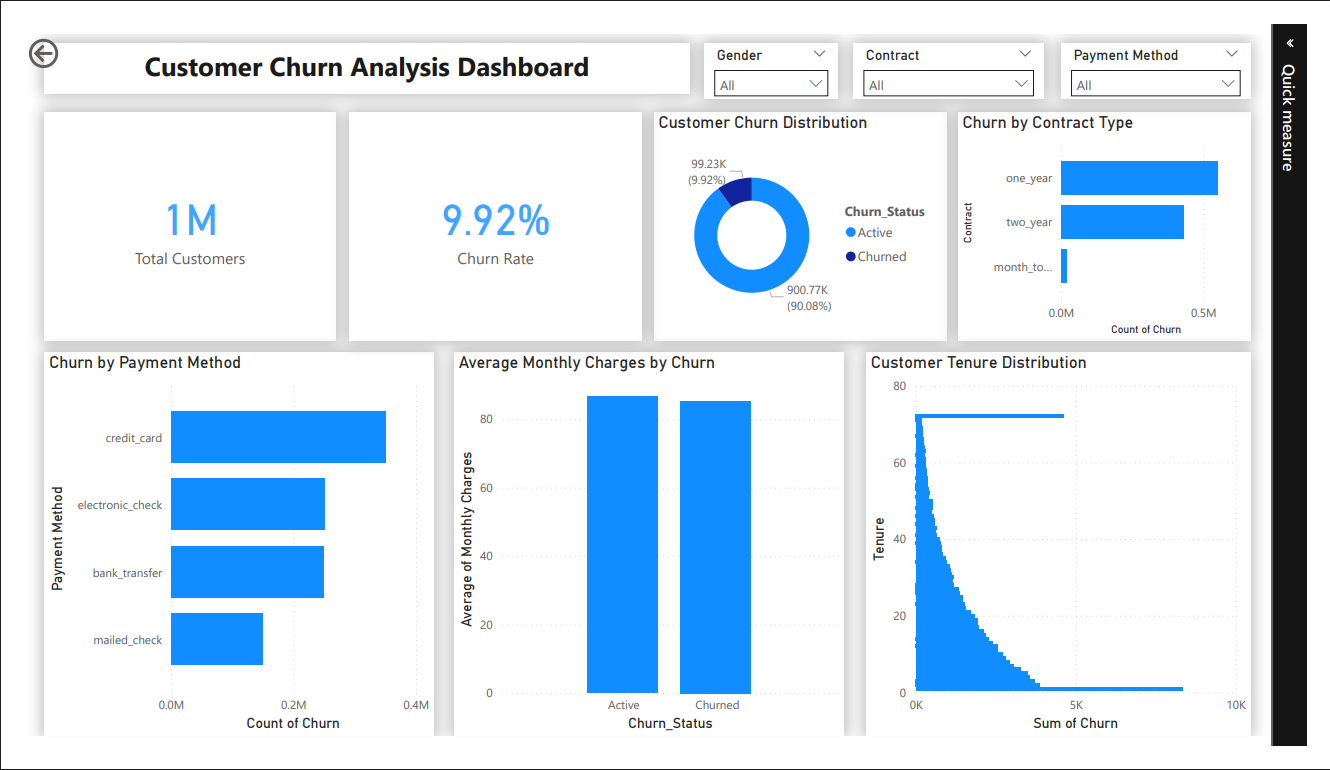

The dashboard page shown, as its layout file describes it:
{"tool":"powerbi","page":{"name":"Page 1","canvas":[1280,720],"ordinal":0},"visuals":[{"type":"card","title":"Churn","fields":{"Values":["churn_dashboard.Total Customers"]},"box":[21,79.5,299.5,234.9],"z":0},{"type":"donutChart","title":"Customer Churn Distribution","fields":{"Category":["churn_dashboard.Churn_Status"],"Y":["CountNonNull(churn_dashboard.Churn)"]},"box":[646.2,79.5,299.5,234.9],"z":1000},{"type":"barChart","title":"Churn by Contract Type","fields":{"Category":["churn_dashboard.Contract"],"Y":["CountNonNull(churn_dashboard.Churn)"]},"box":[958.1,79.5,299.5,234.9],"z":2000},{"type":"barChart","title":"Churn by Payment Method","fields":{"Category":["churn_dashboard.Payment Method"],"Y":["CountNonNull(churn_dashboard.Churn)"]},"box":[21.1,326.8,400.2,392.7],"z":3000},{"type":"barChart","title":"Customer Tenure Distribution","fields":{"Y":["Sum(churn_dashboard.Churn)"],"Category":["churn_dashboard.Tenure"]},"box":[863.7,326.8,393.9,392.7],"z":4000},{"type":"clusteredColumnChart","title":"Average Monthly Charges by Churn","fields":{"Category":["churn_dashboard.Churn_Status"],"Y":["Avg(churn_dashboard.Monthly Charges)"]},"box":[441.2,326.8,400.2,392.7],"z":5000},{"type":"textbox","box":[21.1,8.7,662.4,52.2],"z":6000},{"type":"slicer","fields":{"Values":["churn_dashboard.Gender"]},"box":[698.4,8.7,136.7,57.2],"z":7000},{"type":"slicer","fields":{"Values":["churn_dashboard.Contract"]},"box":[851.3,8.7,195.1,57.2],"z":8000},{"type":"slicer","fields":{"Values":["churn_dashboard.Payment Method"]},"box":[1063.8,8.7,193.9,57.2],"z":9000},{"type":"actionButton","box":[0,0,100,40],"z":10000},{"type":"card","fields":{"Values":["churn_dashboard.Churn Rate"]},"box":[334.3,79.5,299.5,234.9],"z":11000}]}

Visuals, with their boxes in screenshot pixels (x1, y1, x2, y2):
"Churn" card: 1 109 308 350
"Customer Churn Distribution" donutChart: 641 109 948 350
"Churn by Contract Type" barChart: 961 109 1268 350
"Churn by Payment Method" barChart: 1 363 411 765
"Customer Tenure Distribution" barChart: 864 363 1268 765
"Average Monthly Charges by Churn" clusteredColumnChart: 431 363 841 765
textbox: 1 37 680 90
slicer - churn_dashboard.Gender: 695 37 835 95
slicer - churn_dashboard.Contract: 852 37 1051 95
slicer - churn_dashboard.Payment Method: 1069 37 1268 95
actionButton: 0 28 82 69
card - churn_dashboard.Churn Rate: 322 109 629 350
